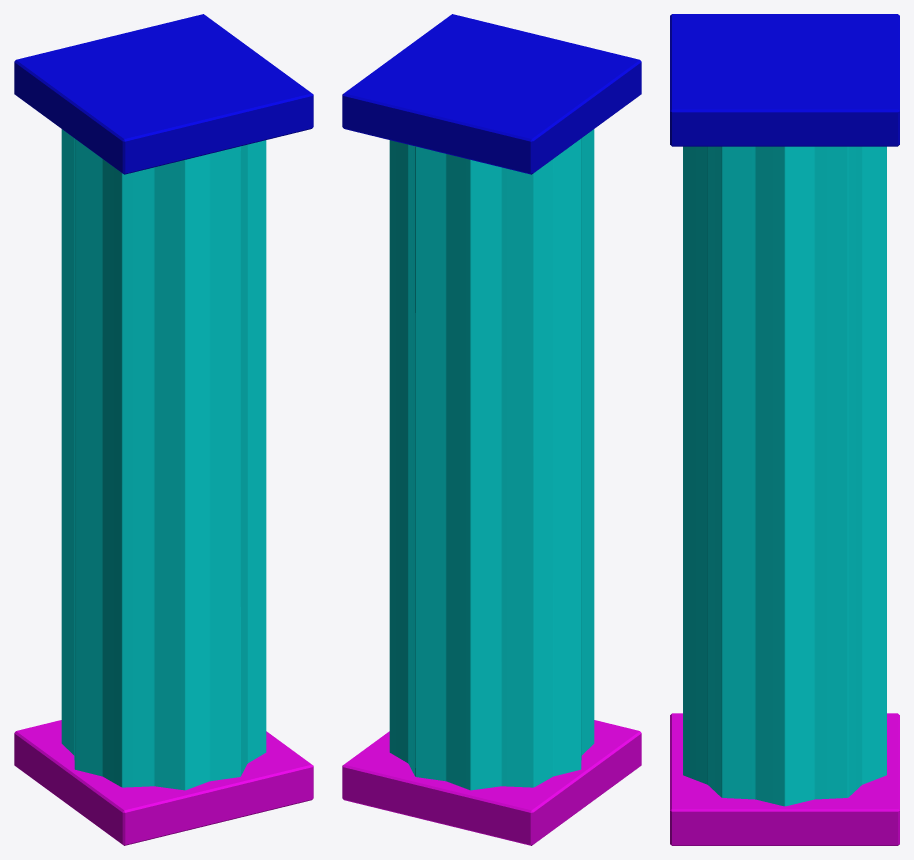
The model's file is Pillar Base.fbx.
The picture shows the model from 3 angles, left to right: view 1: azimuth 30°, elevation 25°; view 2: azimuth 150°, elevation 25°; view 3: azimuth 270°, elevation 25°; orthographic projection. The views are drawn at different scales.
Visible parts, largest first — view 1: pCylinder34, pCube92, pCube91; view 2: pCylinder34, pCube92, pCube91; view 3: pCylinder34, pCube92, pCube91.
Part boxes in pixels (x1,y1,x2,y2): pCylinder34: [61, 129, 266, 790]; pCube92: [14, 14, 313, 174]; pCube91: [14, 720, 313, 845]; pCylinder34: [389, 129, 594, 790]; pCube92: [342, 14, 641, 174]; pCube91: [342, 720, 641, 845]; pCylinder34: [683, 146, 886, 806]; pCube92: [670, 14, 899, 146]; pCube91: [670, 713, 899, 845].
Bounding box in the file's own units: 2.88 × 10.17 × 2.88.
